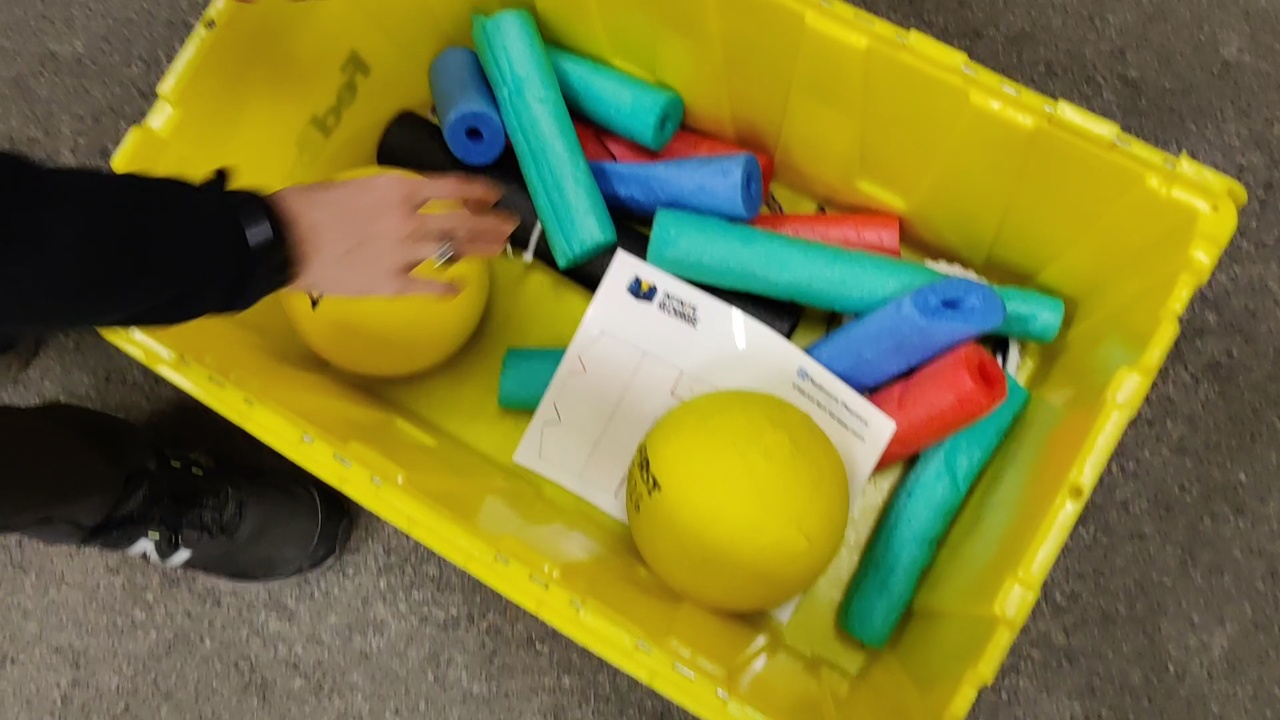Ball: (627, 391, 848, 612), (285, 264, 496, 378)
